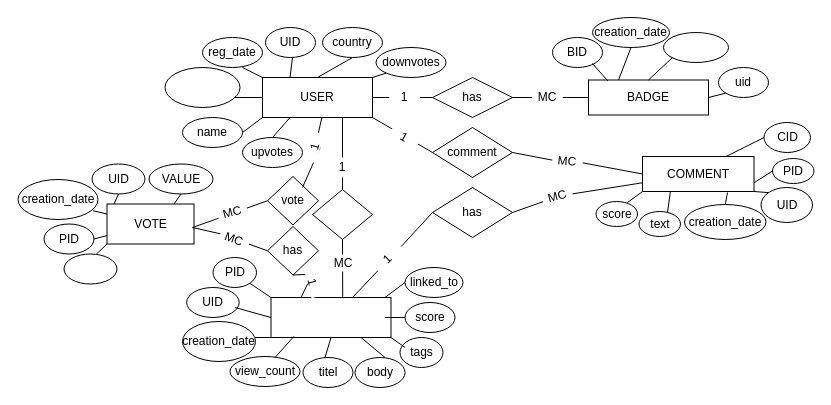
This 831x405 diagram has some shape labels left out. The shapes that lost their labels are listed below. From the top down, each one's centre as x and y in pixels, then its label:
(x=695, y=47): title
(x=202, y=87): usr_img_link
(x=342, y=214): publish
(x=90, y=268): VID
(x=330, y=317): POST
